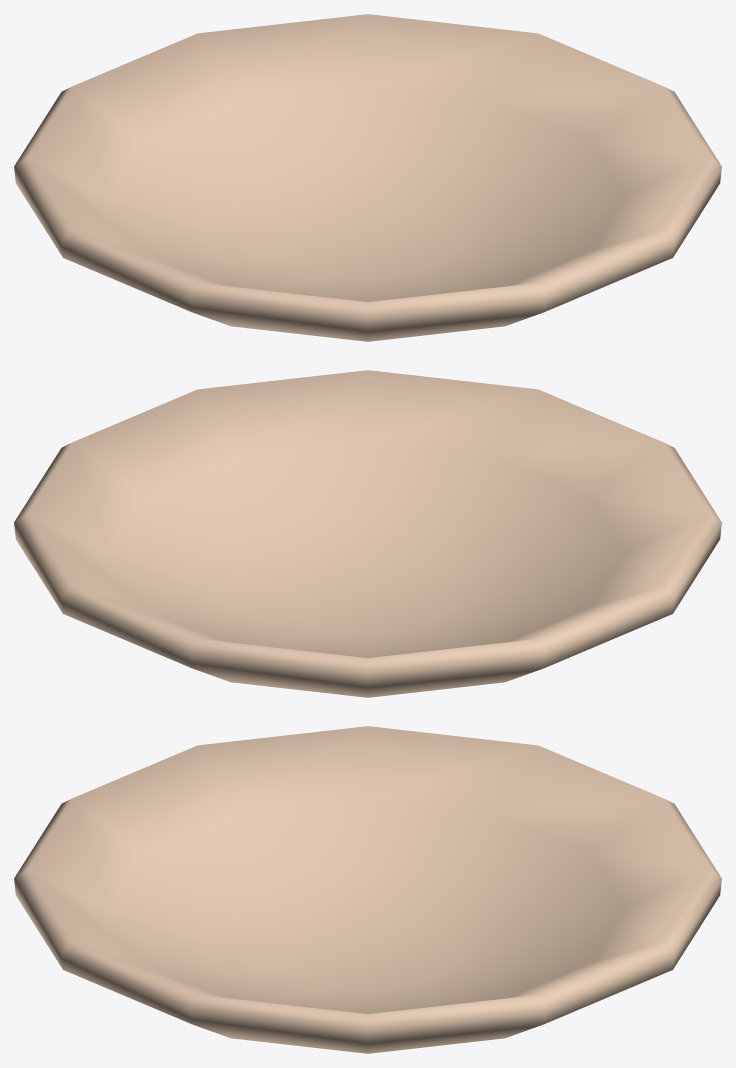
Rendered from Bowl.fbx.
The picture shows the model from 3 angles, top to bottom: view 1: azimuth 30°, elevation 25°; view 2: azimuth 150°, elevation 25°; view 3: azimuth 270°, elevation 25°; orthographic projection.
Visible parts, largest first — view 1: Cylinder049; view 2: Cylinder049; view 3: Cylinder049.
Boxes of the visible parts, left/top/right/bottom form: Cylinder049: left=14, top=14, right=721, bottom=341; Cylinder049: left=14, top=370, right=721, bottom=697; Cylinder049: left=14, top=726, right=721, bottom=1053.
Size of the model in its own units: 12.29 by 2.29 by 12.29.
Materials: 1 (1 with a texture image).
